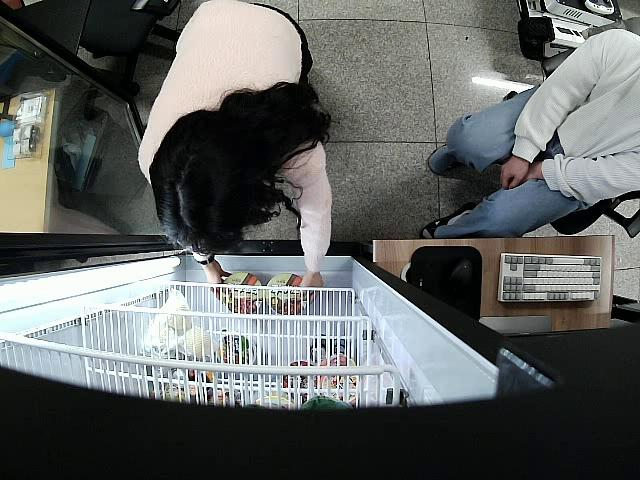00_hand: (295, 275, 325, 304), (208, 265, 231, 301)
03_chapagetti_L: (219, 271, 263, 313), (266, 274, 308, 316)
